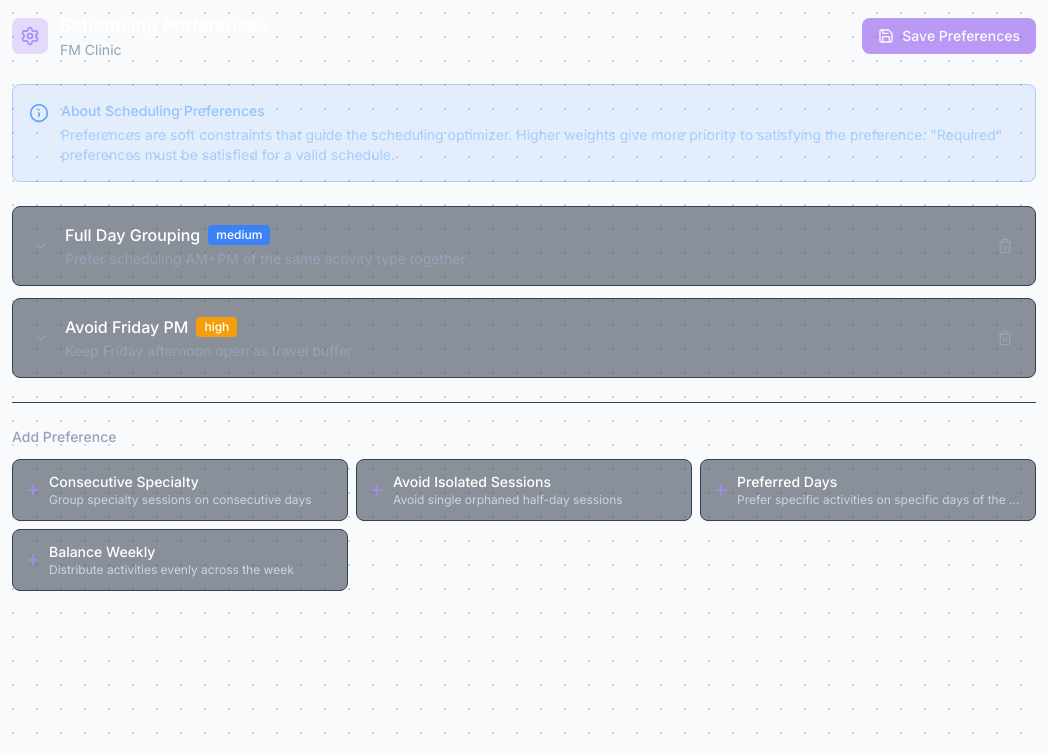
Test case: PreferenceEditor › Expand/Collapse › expands preference card when clicked
// Find and click the first preference header
Step 1. Click the text "Full Day Grouping" → (168, 235), box [65, 225, 270, 245]
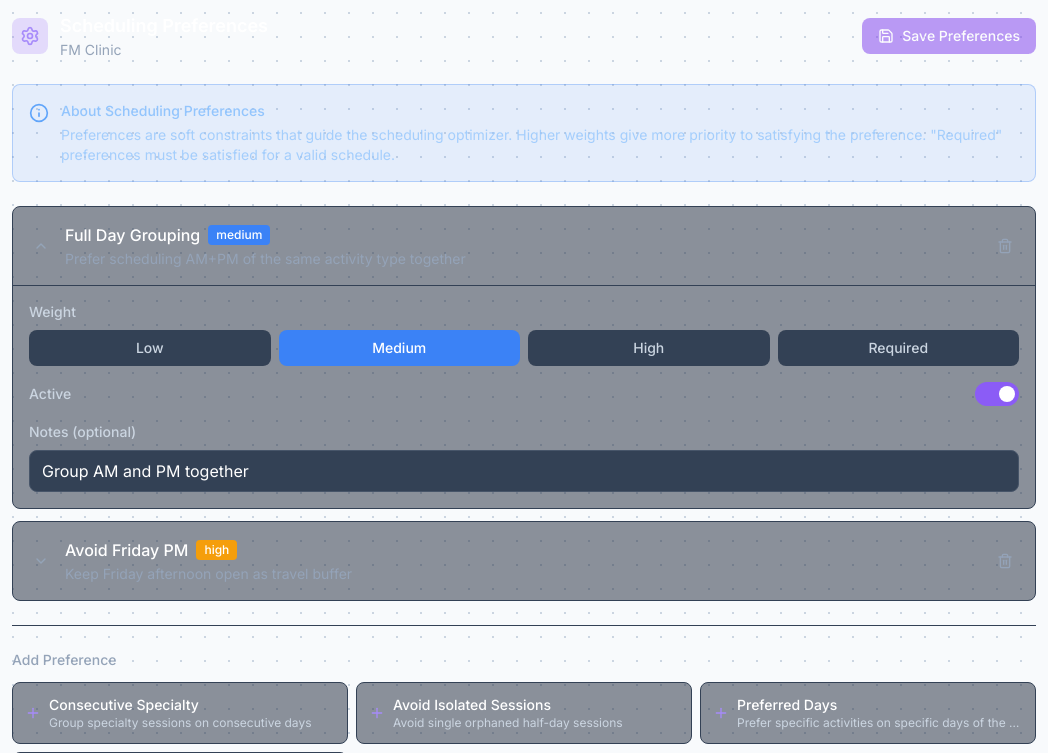
Result: the text "Weight" is shown at [29, 303, 76, 320]
Result: the button "Low" is shown at [29, 330, 270, 366]
Result: the button "Medium" is shown at [278, 330, 520, 366]
